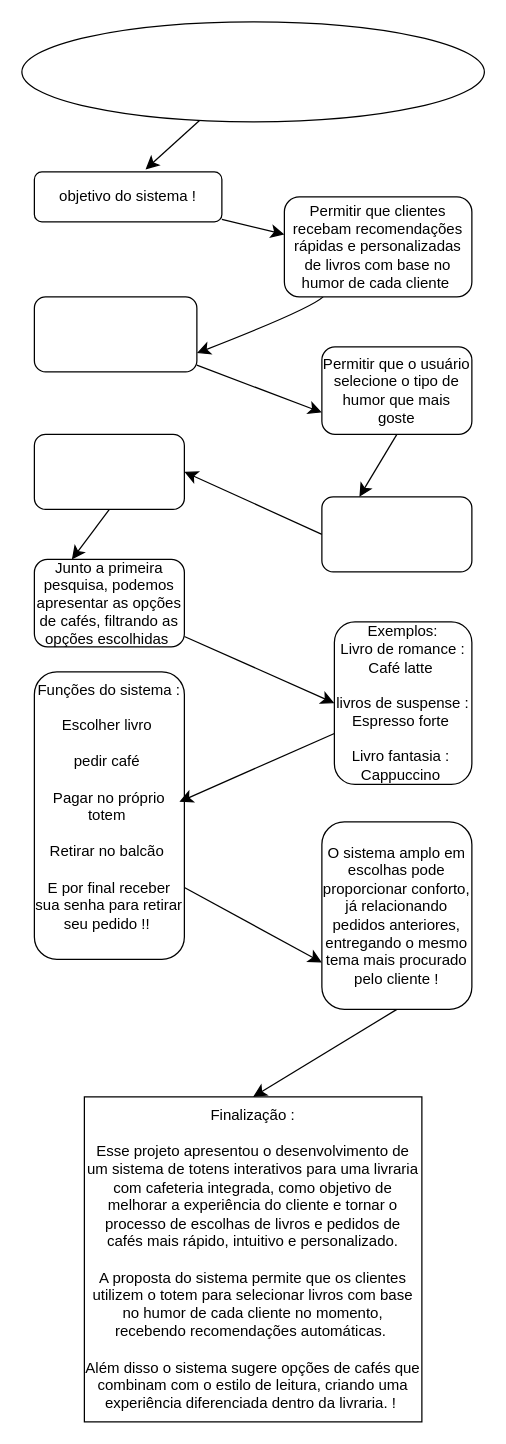
Some shapes in this 506 by 1444 pixel diagram are drawn without their labels. The centre of each missing label's shape, as x and y in pixels:
"Consultar a base de livros com baseamento no humor escolhido" goes at (108,471).
"Processar o humor informado com base na primeira pesquisa adquirida !" goes at (396,534).
"Requisitos Funcionais !" goes at (115,334).
"Sistema de totens para atendimento em livraria / cafeteria" goes at (252,71).
